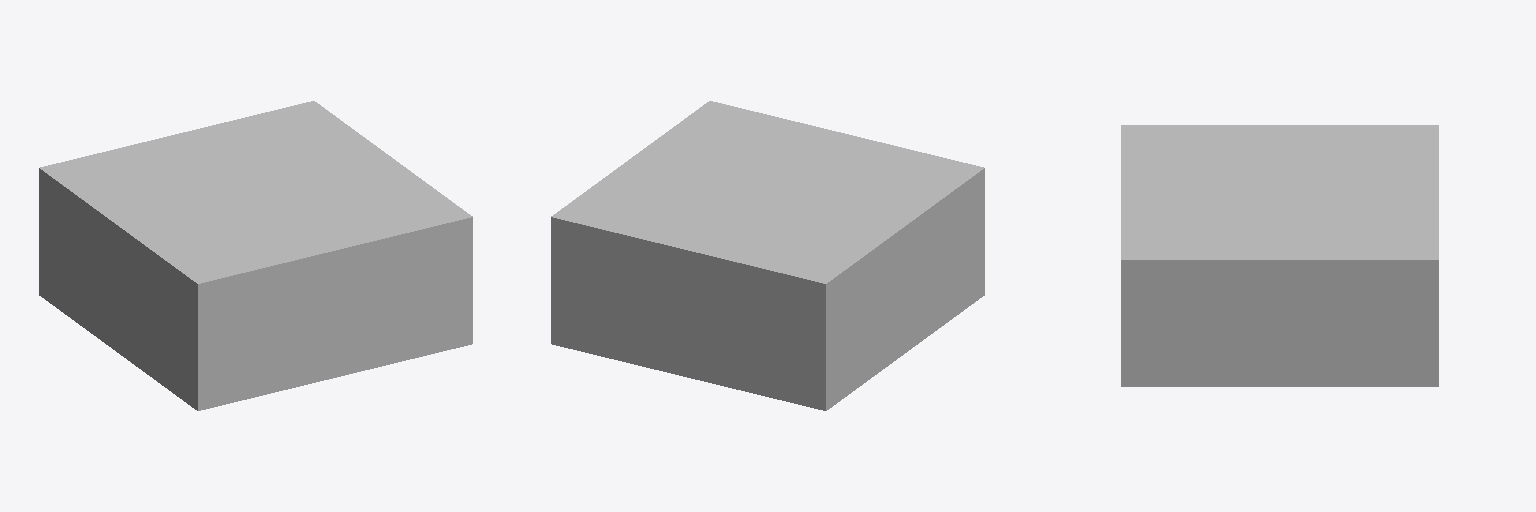
File: Cryo-Walls.obj
The picture shows the model from 3 angles: view 1: azimuth 30°, elevation 25°; view 2: azimuth 150°, elevation 25°; view 3: azimuth 270°, elevation 25°; orthographic projection.
Visible parts, largest first — view 1: pCube1 group4; view 2: pCube1 group4; view 3: pCube1 group4.
Part boxes in pixels (left/top/right/bottom): pCube1 group4: left=39, top=101, right=472, bottom=410; pCube1 group4: left=551, top=101, right=984, bottom=410; pCube1 group4: left=1121, top=125, right=1438, bottom=386.
Size of the model in its own units: 12 by 5.3 by 12.